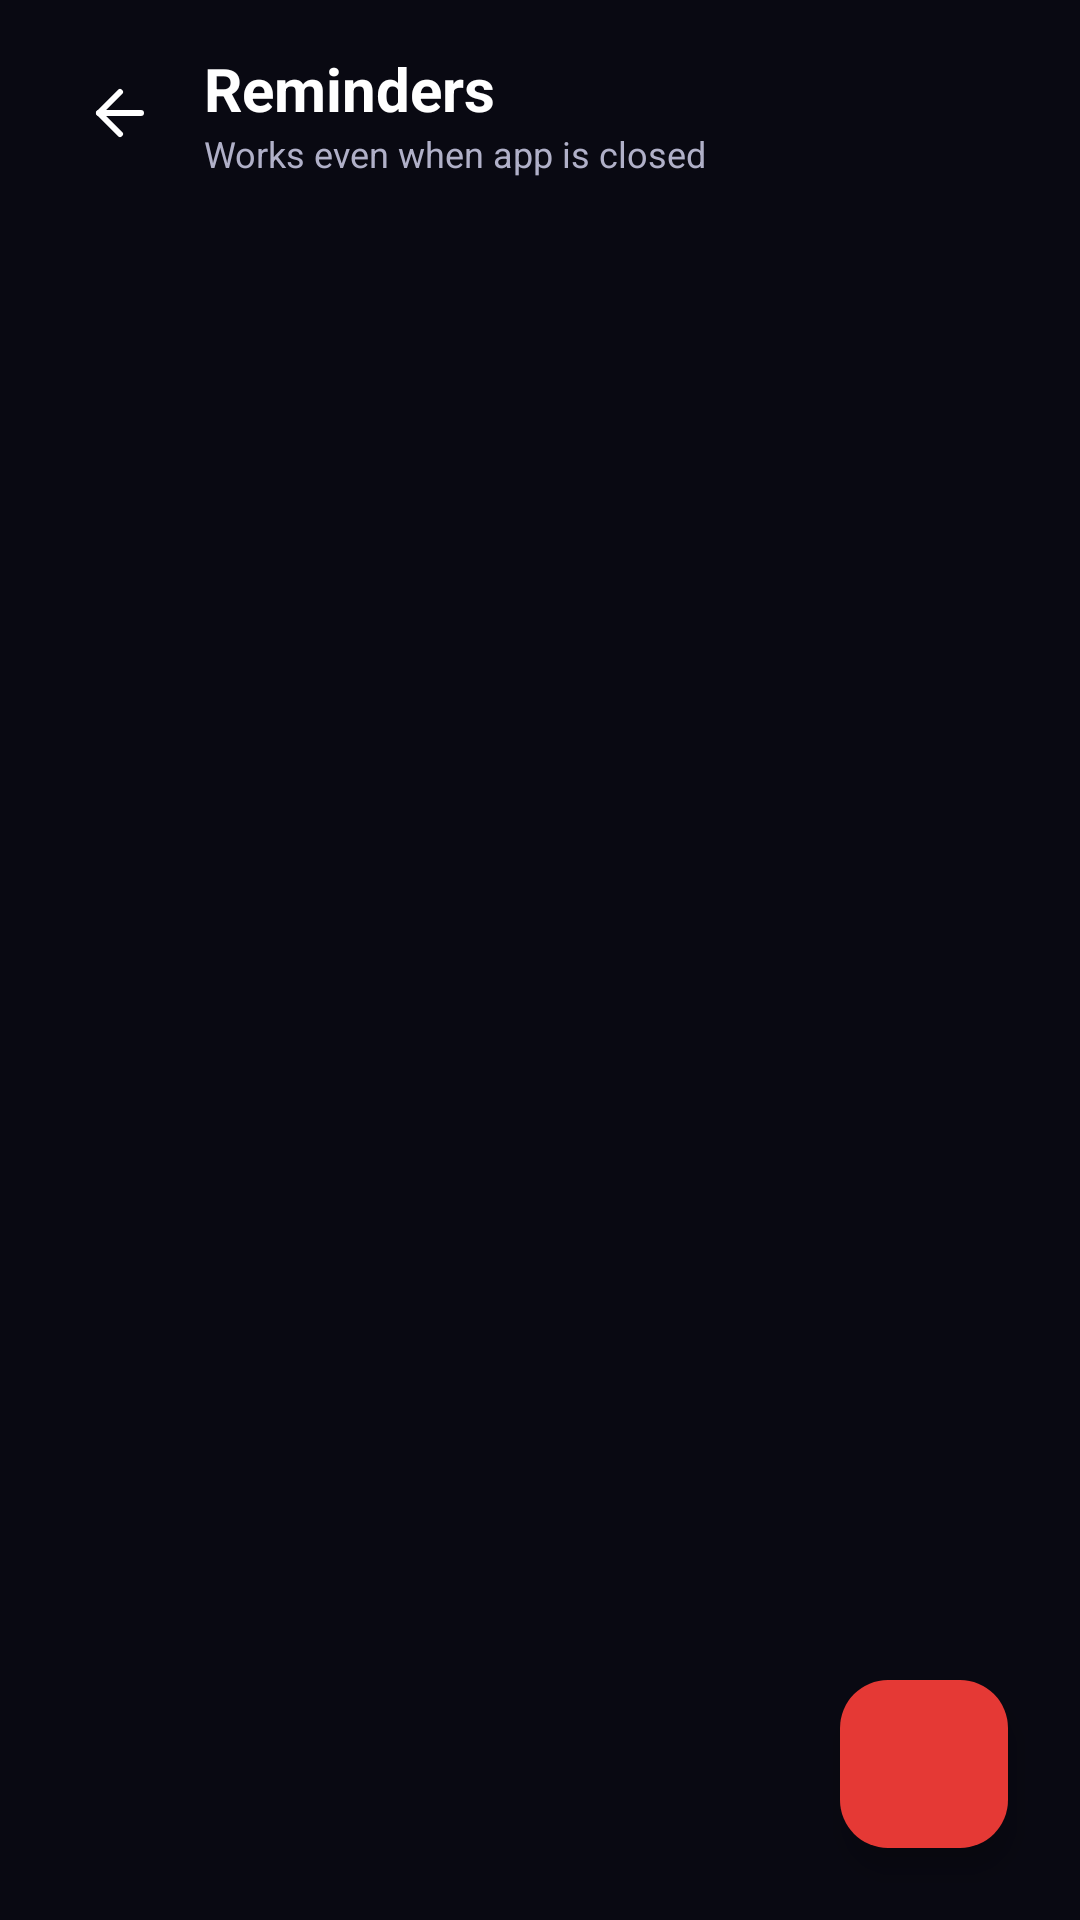

Named icons in this screenshot (1080×1920) and their bounding boxes, (x1, y1, x2, y2):
arrow back: (96, 89, 144, 137)
